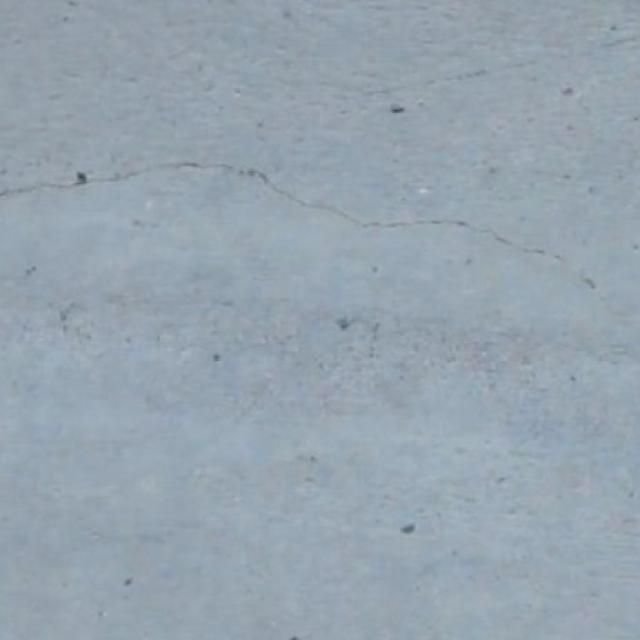Diagonal Crack: (370, 30, 640, 98)
Horizontal Crack: (0, 157, 633, 324)
